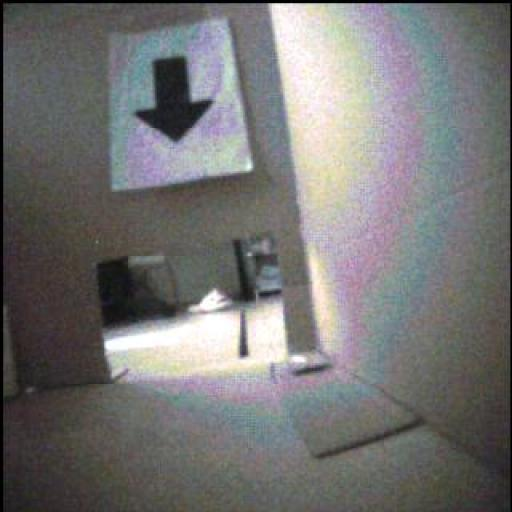arrow: (137, 59, 214, 142)
